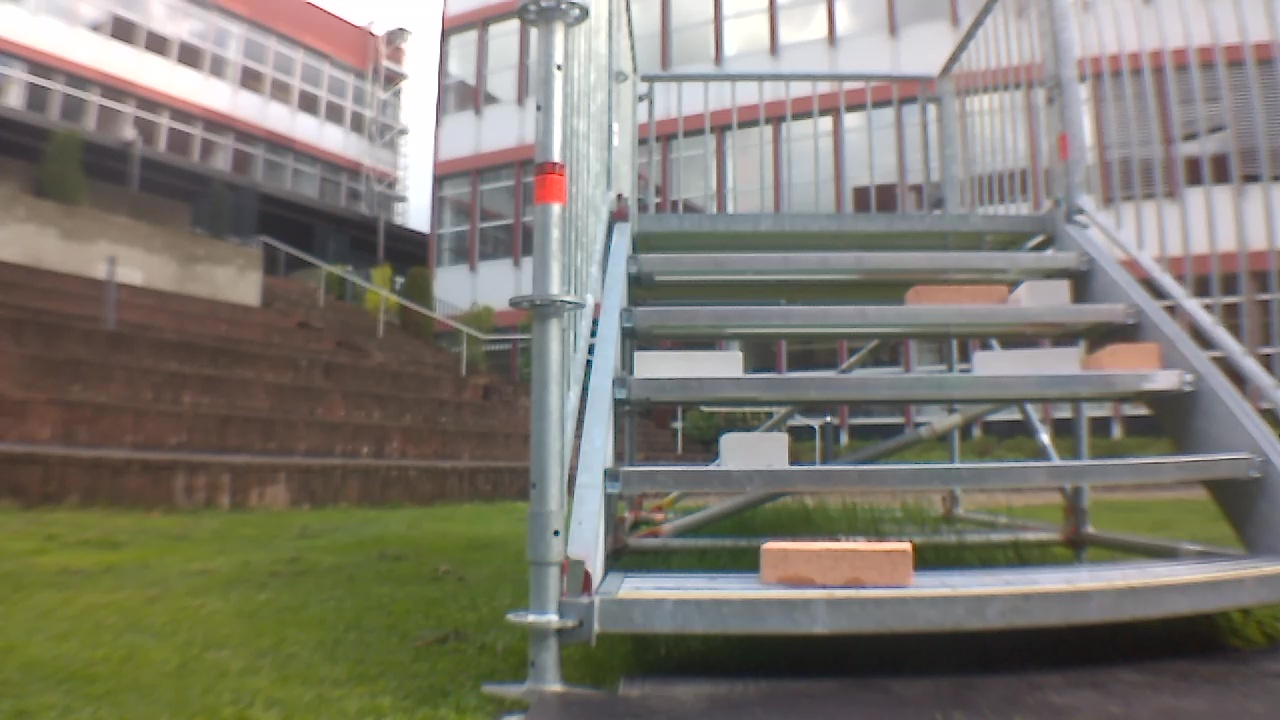brick: (759, 541, 912, 589), (974, 348, 1076, 375), (635, 351, 741, 376), (721, 433, 786, 466), (1088, 344, 1161, 371), (905, 286, 1007, 305), (1012, 281, 1068, 303)
edge: (597, 571, 1280, 635), (604, 456, 1262, 488), (612, 369, 1194, 397), (621, 303, 1141, 324), (626, 251, 1095, 270), (635, 212, 1054, 232)
stairs: (510, 4, 1280, 683)
steps: (592, 204, 1280, 643)
